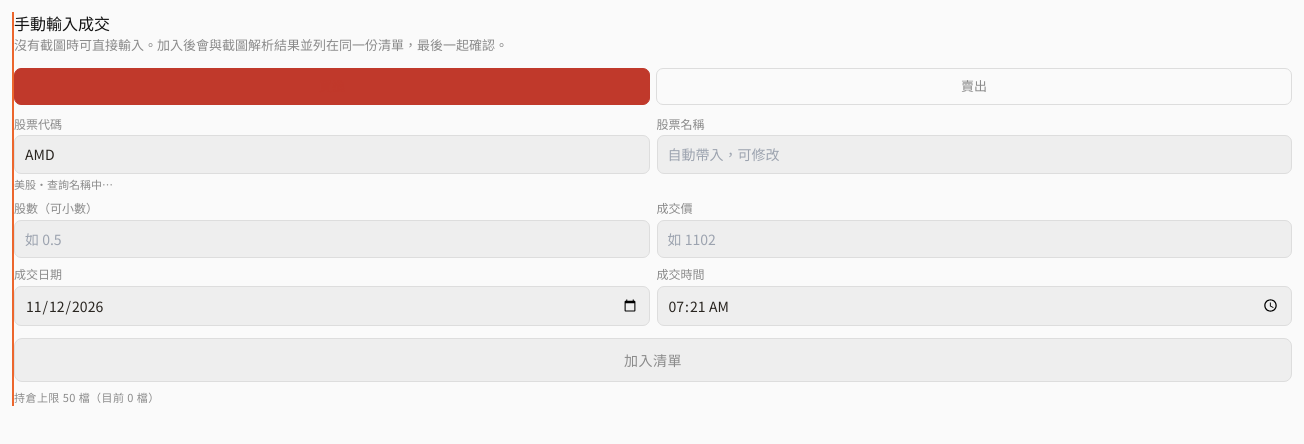
Test: ManualTradeForm — 只輸出 row，不提交 › 美股允許小數股數、台股不允許
This screenshot has width=1304, height=444.
Earlier steps of the test are not shown.
In the field named "股數": (332,239) [14,220,650,258], type "0.5"
In the field named "成交價": (974,239) [656,220,1292,258], type "210"
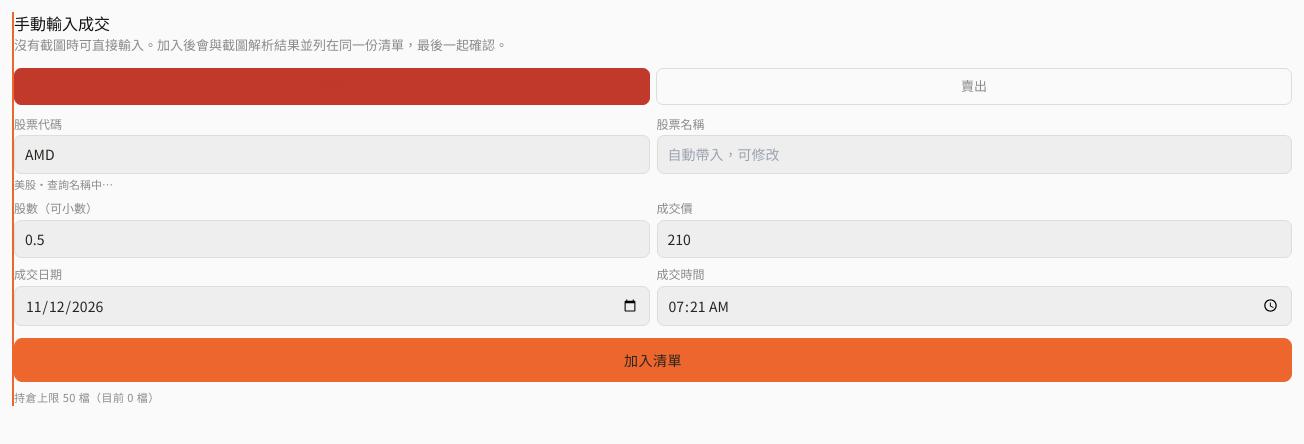
In the field named "股票名稱": (974,154) [656,135,1292,174], type "AMD"
Click the button with aria-label "加入這筆成交": (653,360) [14,338,1292,382]
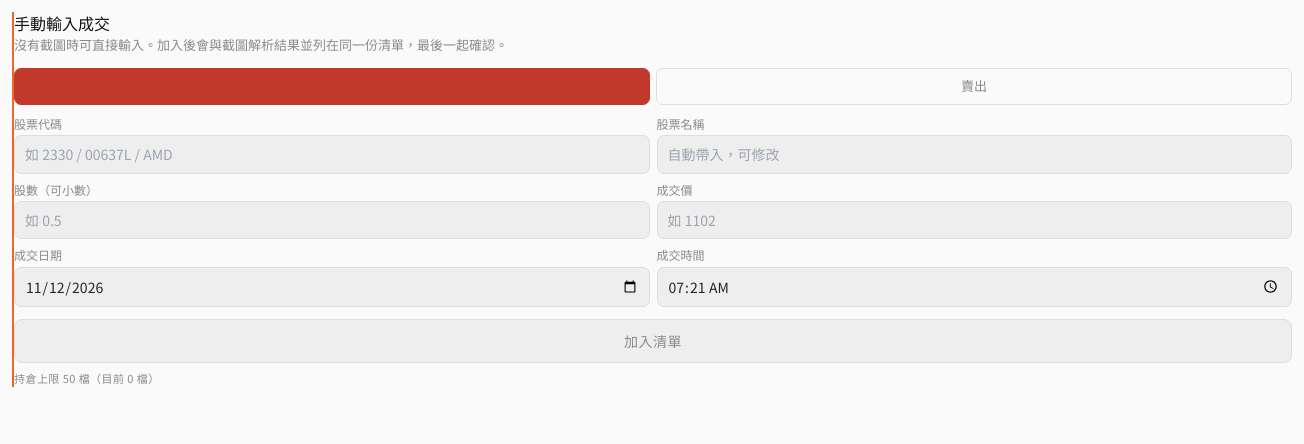
In the field named "股票代碼": (332,154) [14,135,650,174], type "2330"
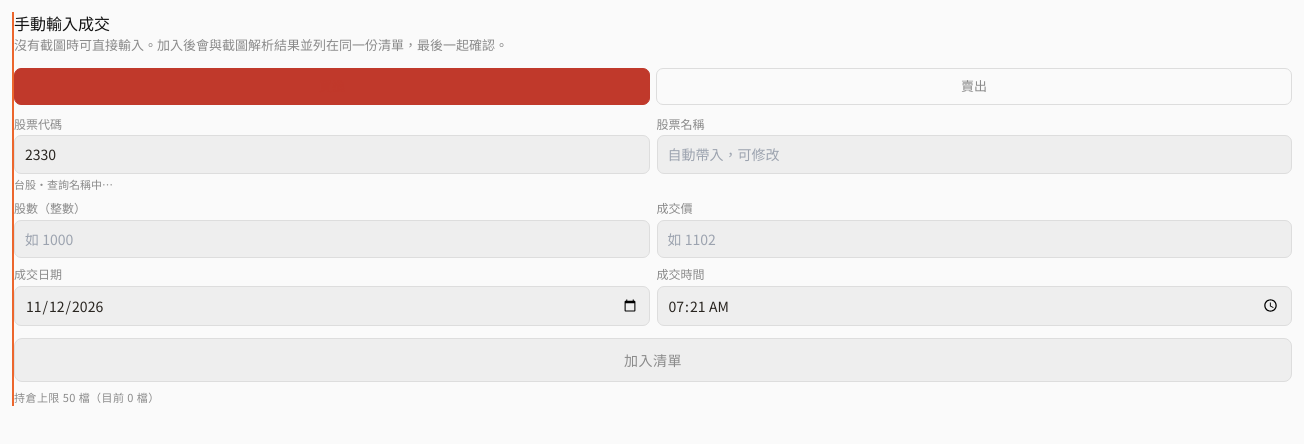
In the field named "股數": (332,239) [14,220,650,258], type "0.5"
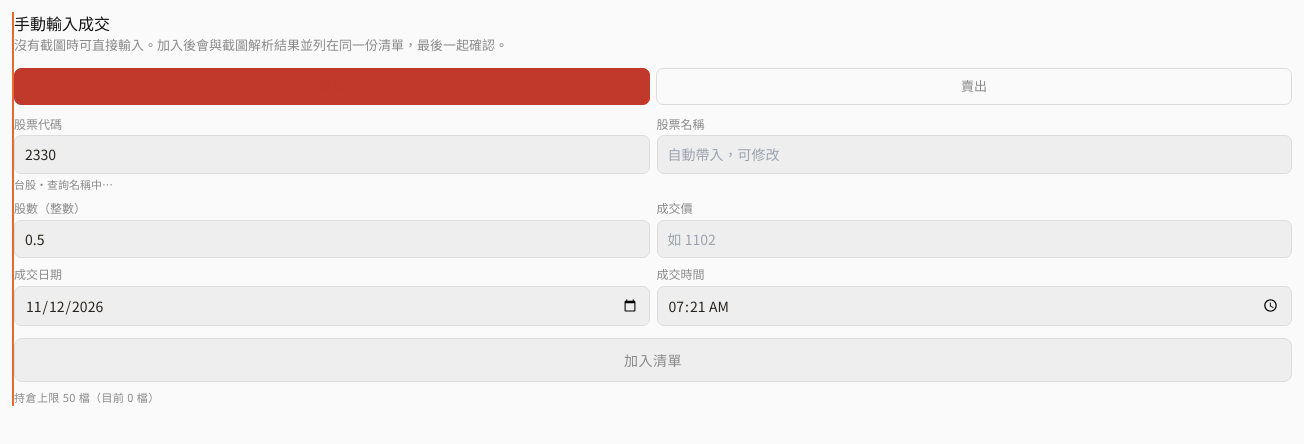
In the field named "成交價": (974,239) [656,220,1292,258], type "1100"
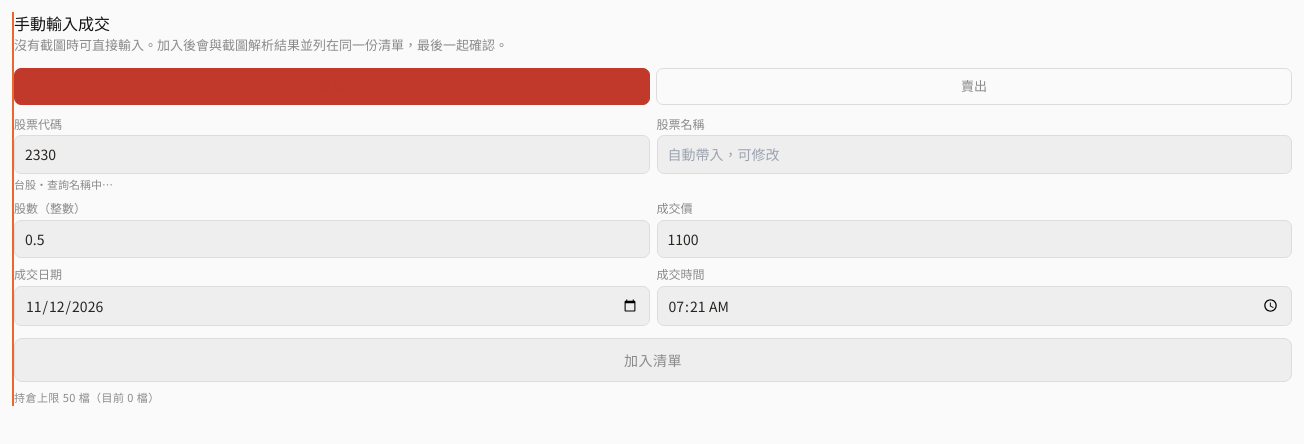
Click the button with aria-label "加入這筆成交": (653,360) [14,338,1292,382]
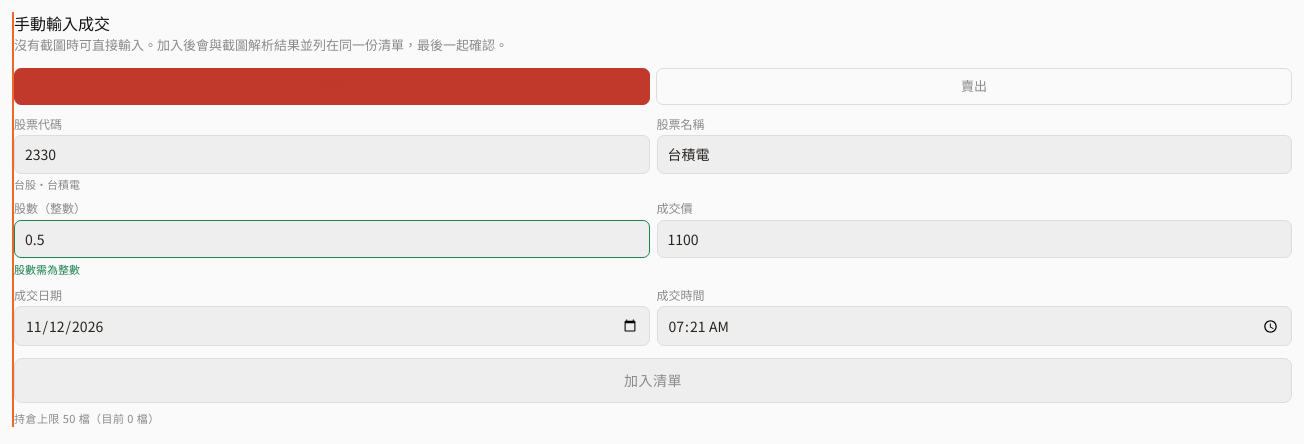
Result: the message "股數需為整數" is shown at [14,261,80,277]
